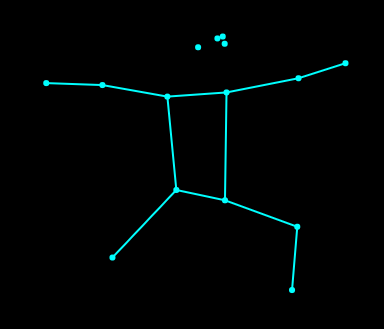warrior_2: (34, 26, 352, 299)
